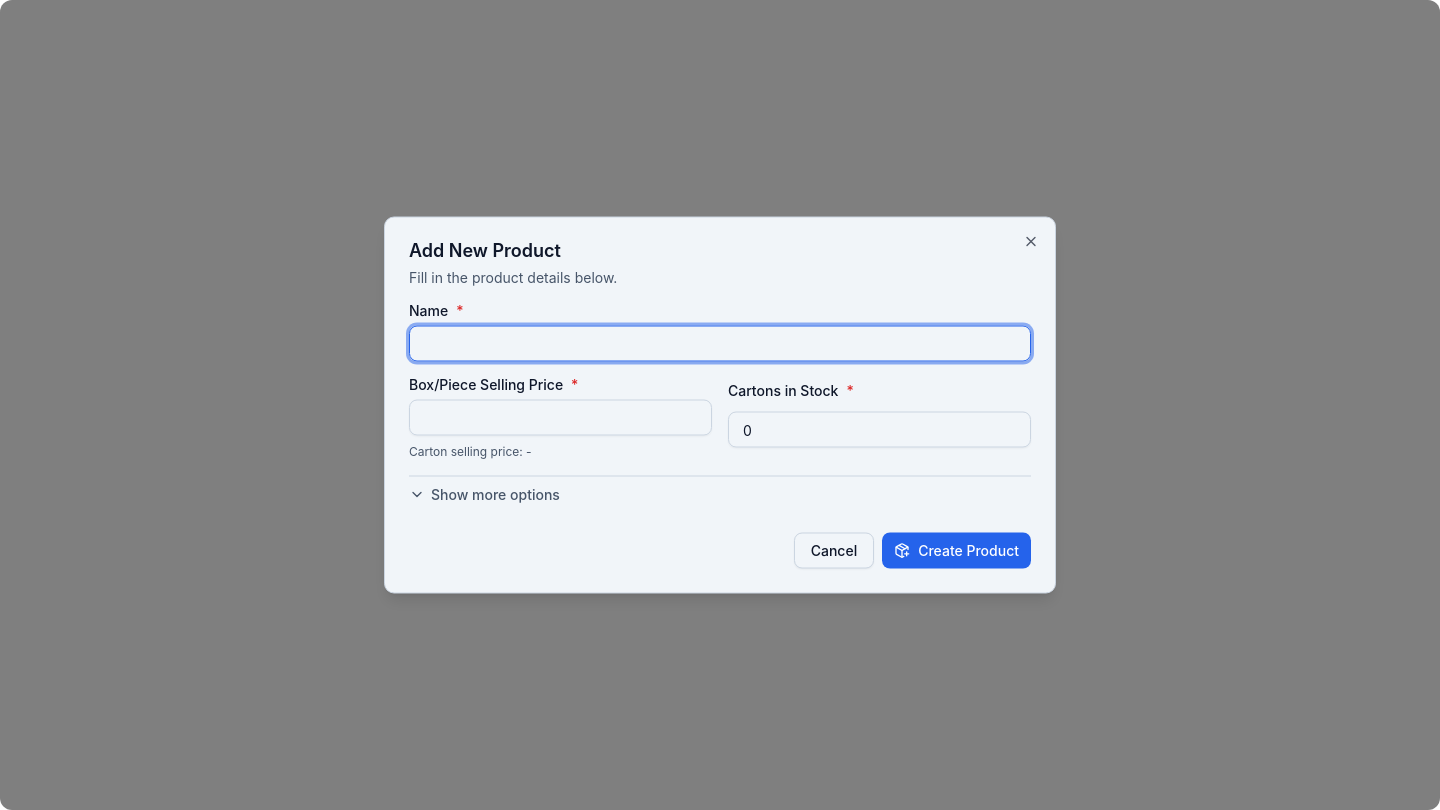
Scenario: ProductFormModal › shows a live purchase price conflict and disables saving
The image size is (1440, 810).
Type "Price Conflict Product" into the field named "Name*".
click(720, 344); type("Price Conflict Product")  # box [409,326,1031,362]
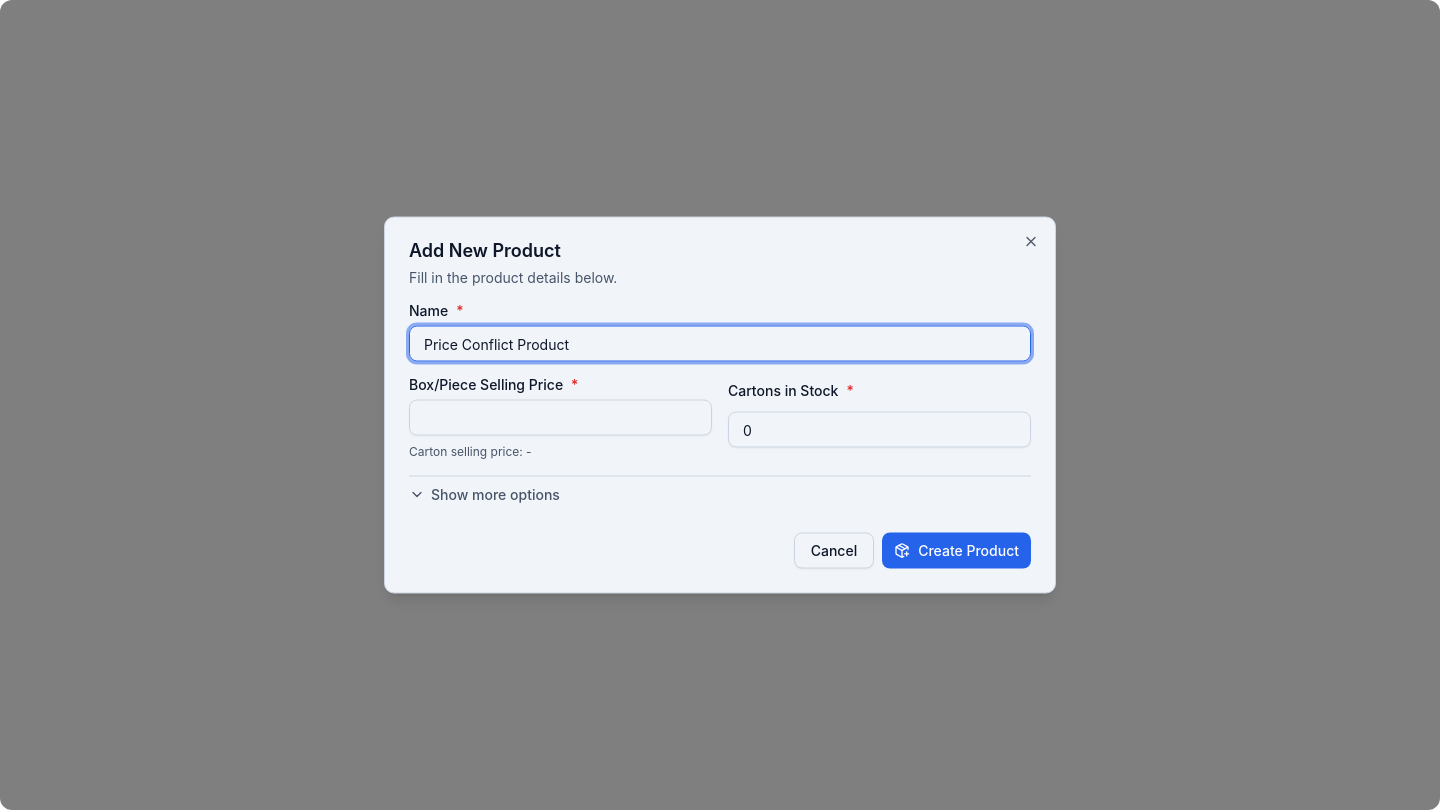
Click the button "Show more options".
click(484, 494)  # box [409,480,560,508]
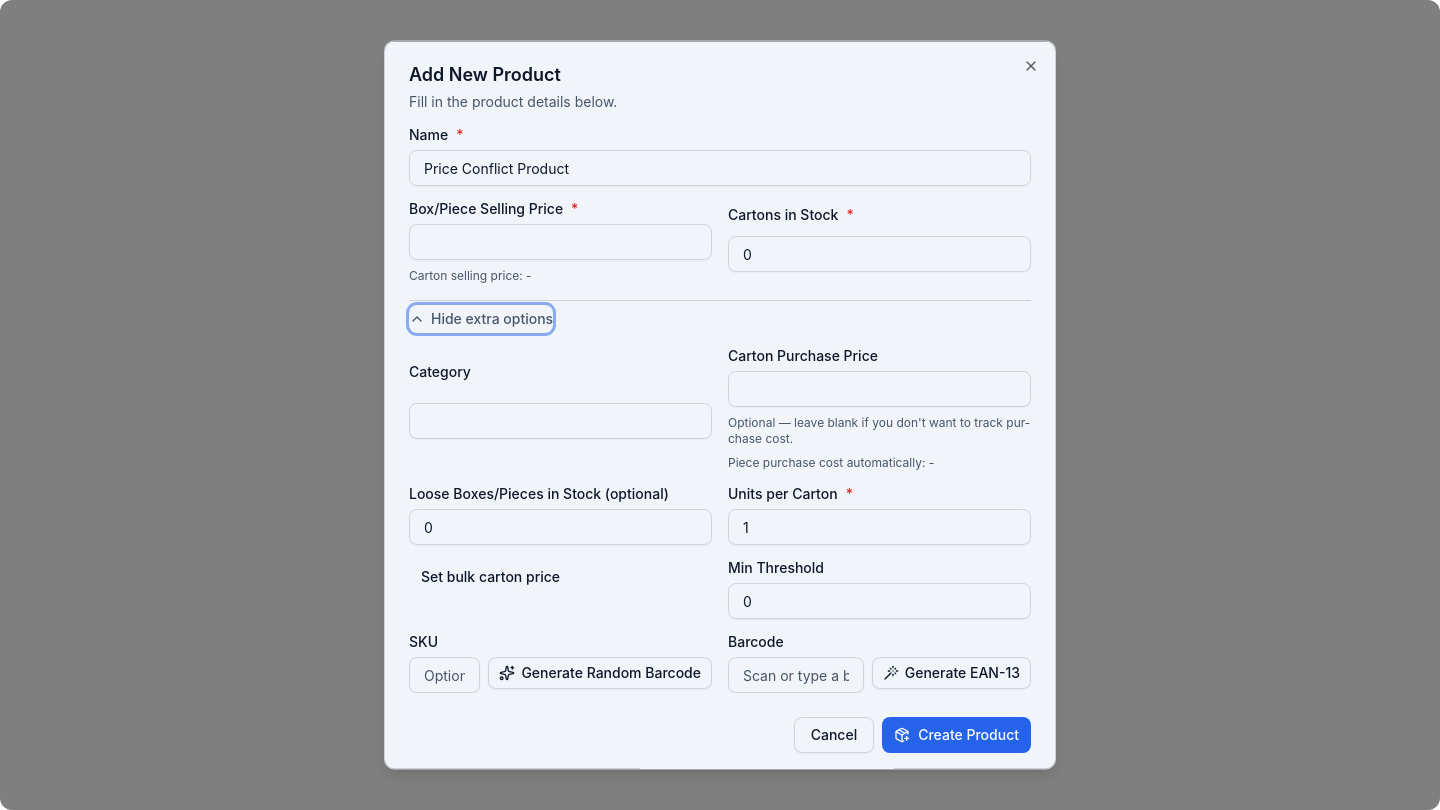
Type "10" into the field labelled "Carton Purchase Price".
click(880, 388); type("10")  # box [728,370,1031,406]
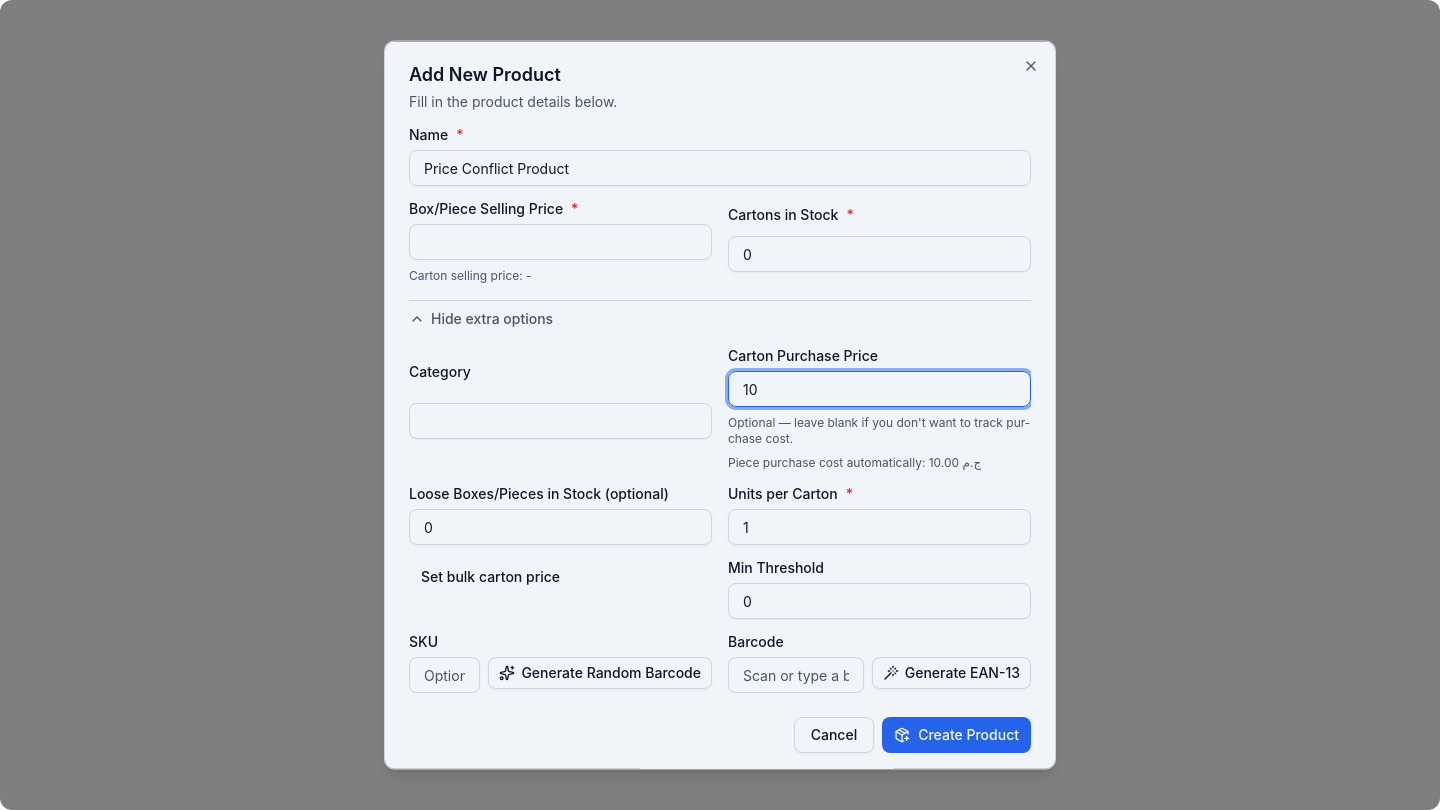
Type "5" into the field named "Box/Piece Selling Price*".
click(560, 242); type("5")  # box [409,224,712,260]
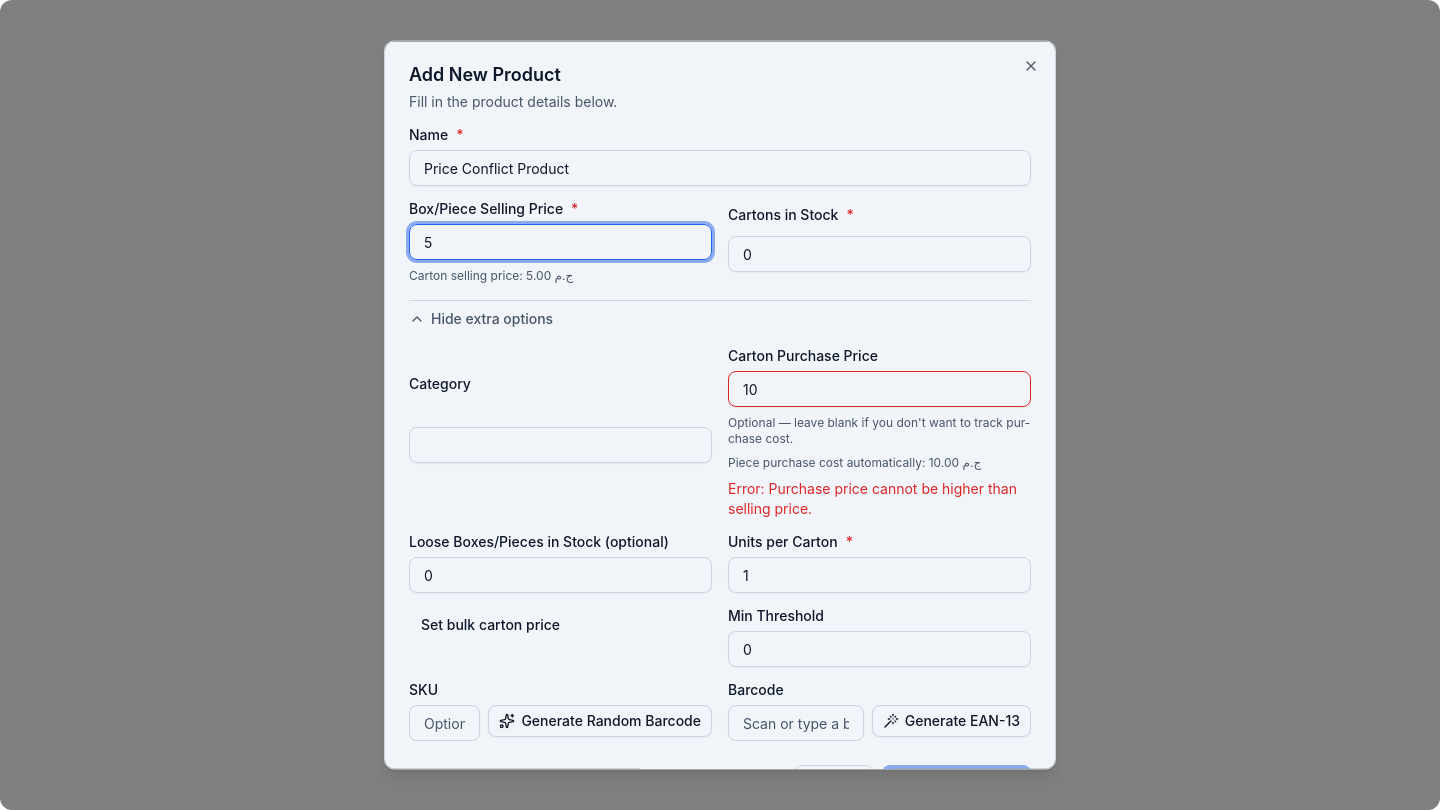
Check: the text "Error: Purchase price cannot be higher than selling price." is shown, box [728,478,1031,518]
Replace the text in the field named "Box/Piece Selling Price*" with "15" at (560, 242), box [409,224,712,260]
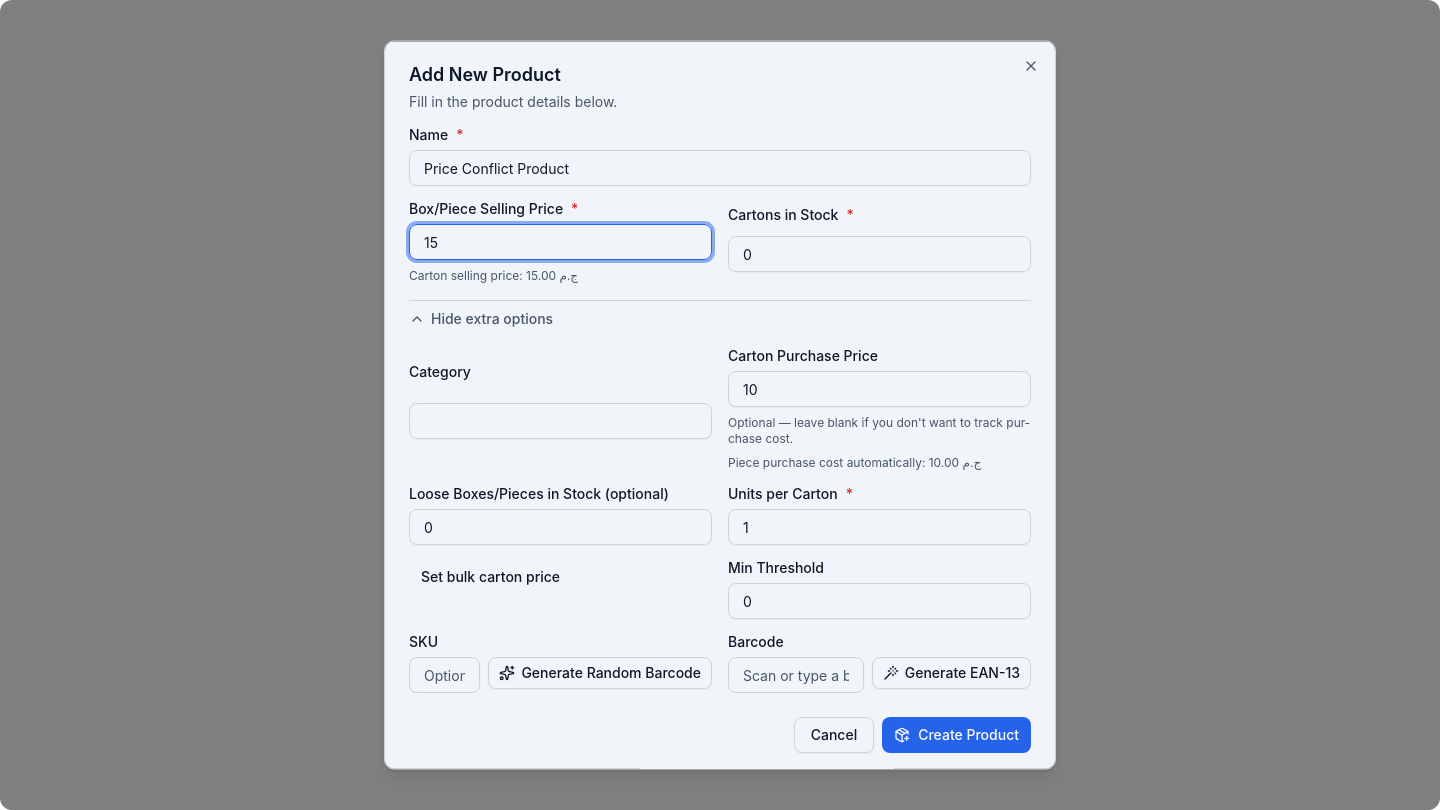
Check: the text "Error: Purchase price cannot be higher than selling price." is gone
Check: the button "Create Product" is enabled, box [882,716,1031,752]
